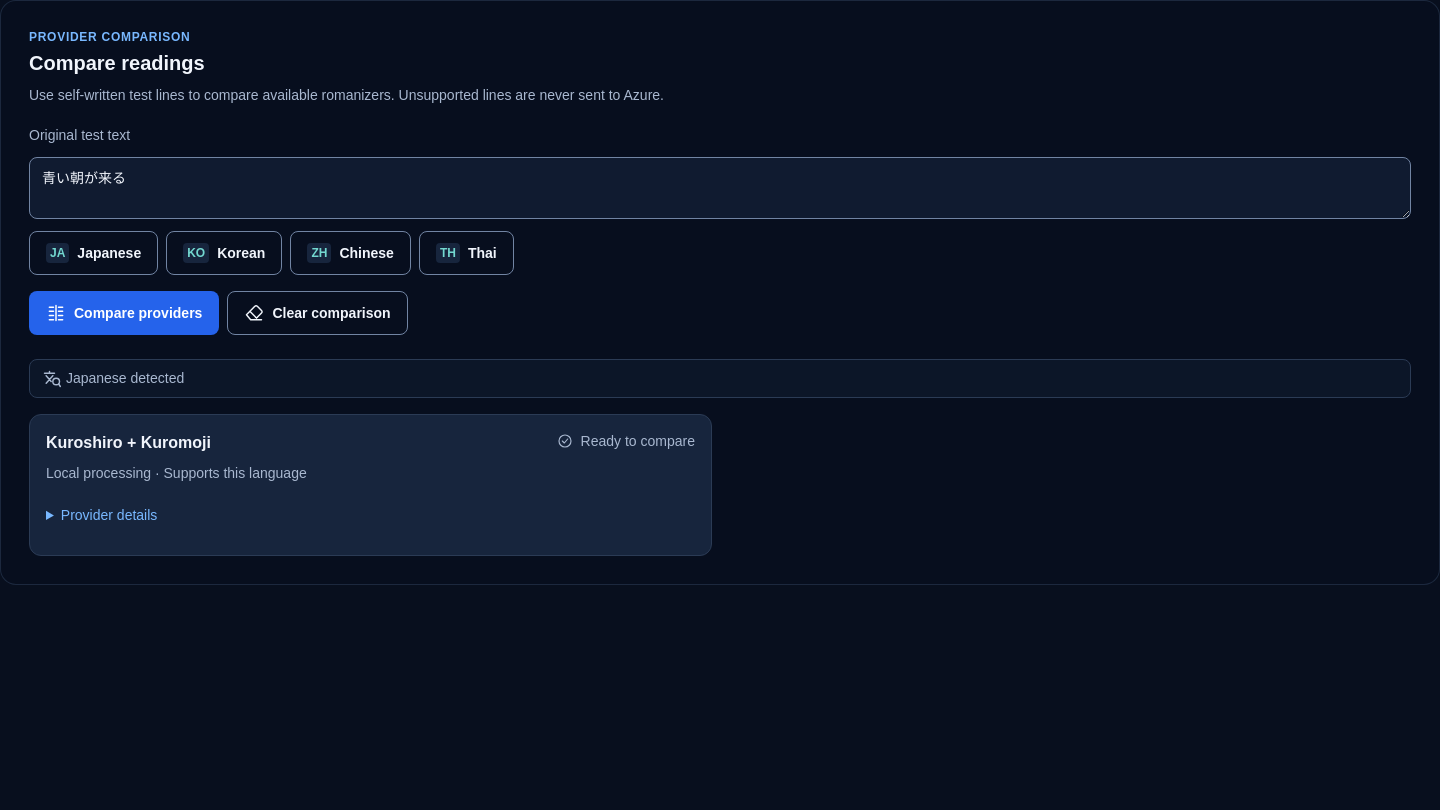
ProviderComparison › shows supported results and leaves the original input unchanged
What coordinates should you click on to do the following:
click the button "Compare providers"
I would click on:
 (124, 313)
Its box is [29,291,219,335].
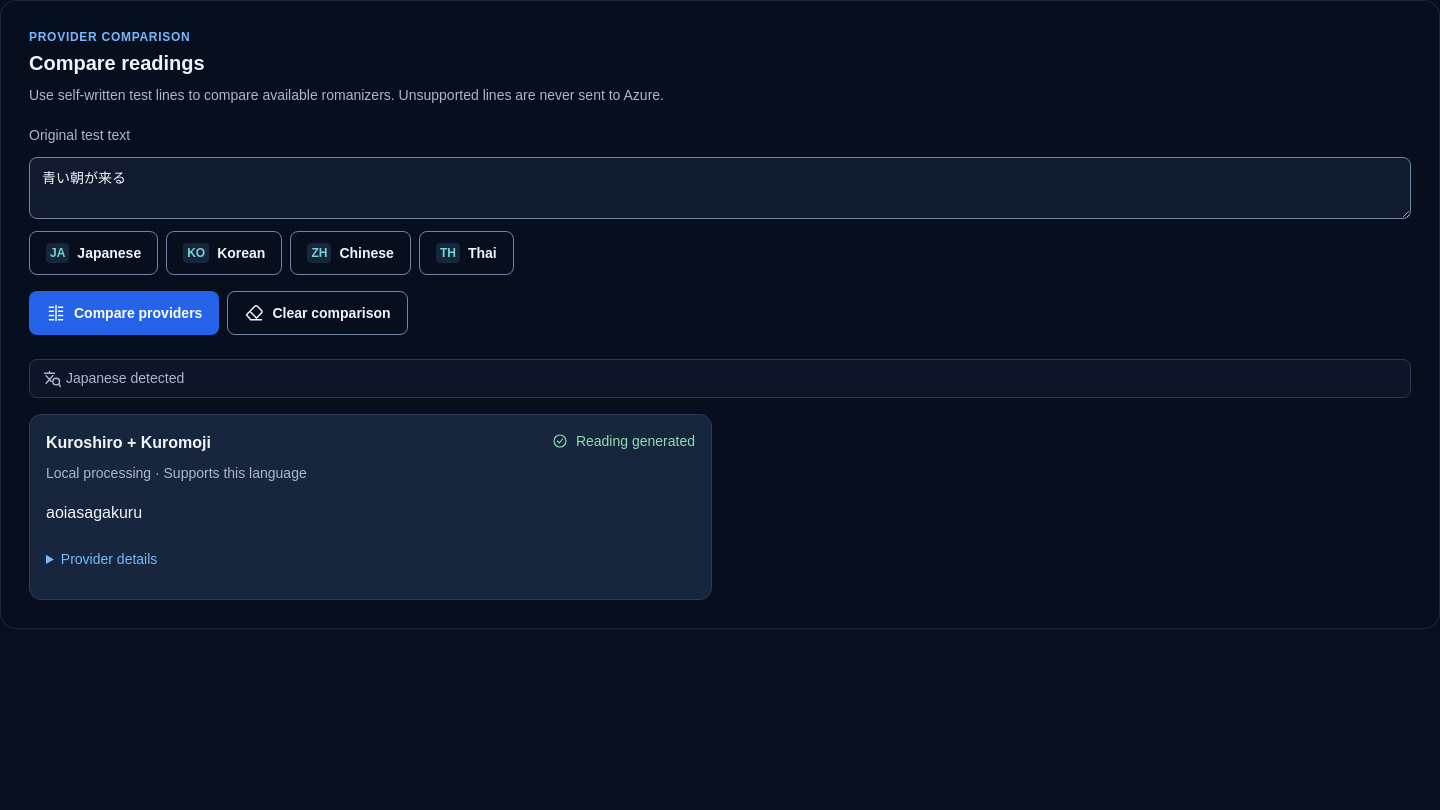
Expected: the text box showing "青い朝が来る" is shown, [29,157,1411,219]
Now the text "aoiasagakuru" is shown, box [46,504,142,521]
